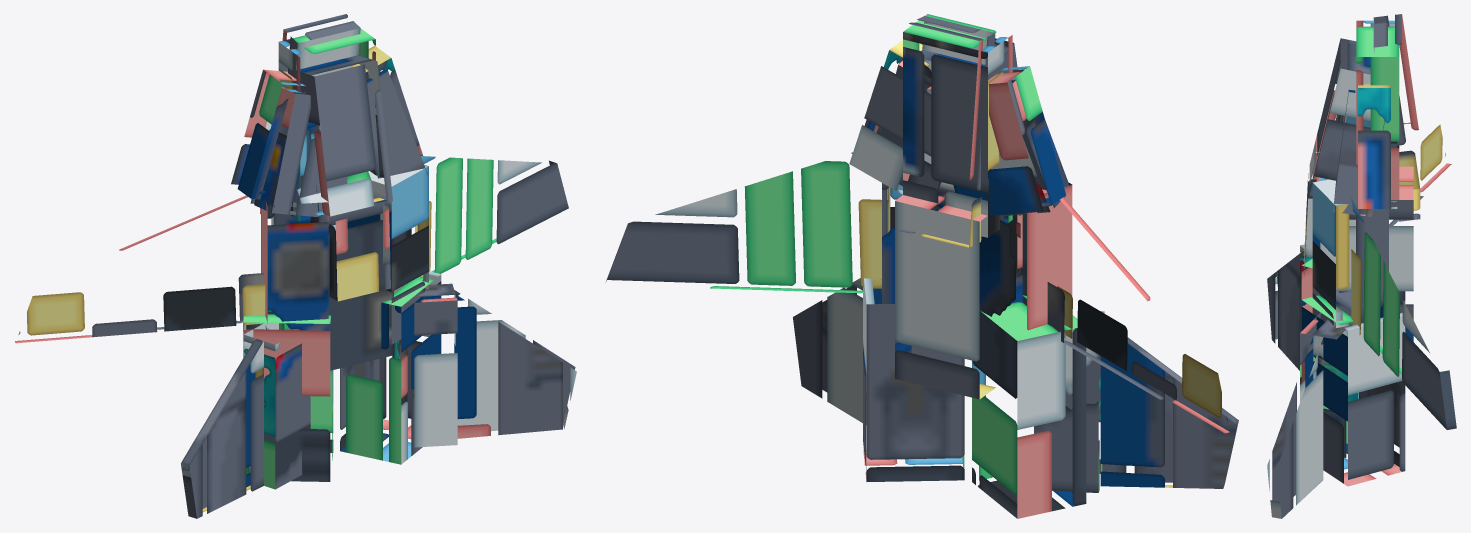
The model's file is nave_boss.obj.
3 views of the same model, side by side, from view 1: azimuth 30°, elevation 25°; view 2: azimuth 150°, elevation 25°; view 3: azimuth 270°, elevation 25° (orthographic). The views are drawn at different scales.
Parts seen in each view (by area): view 1: cuboid.012; view 2: cuboid.012; view 3: cuboid.012.
Part boxes in pixels (<box>): cuboid.012: <box>15,14,576,518</box>; cuboid.012: <box>606,14,1238,518</box>; cuboid.012: <box>1267,14,1456,518</box>.
Size of the model in its own units: 11.01 by 7.87 by 3.31.
1 material, 1 textured.
